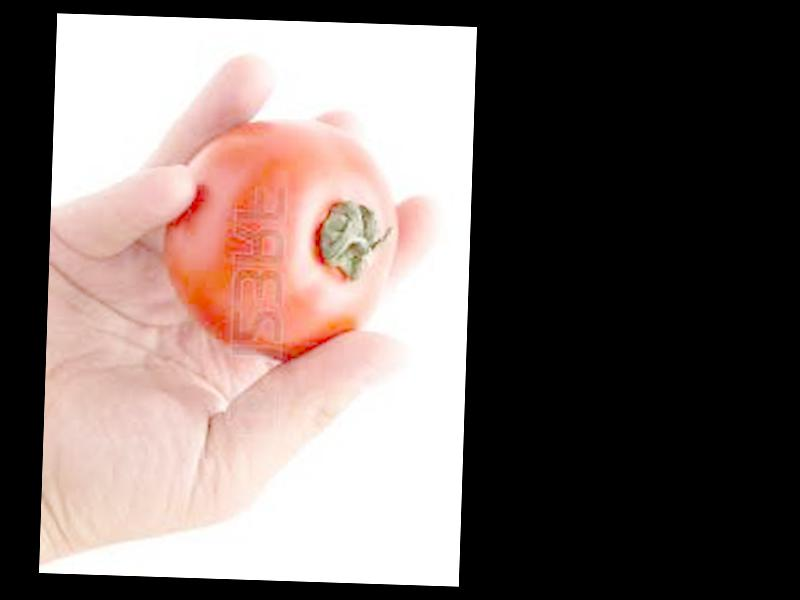Tomato: (161, 114, 401, 361)
